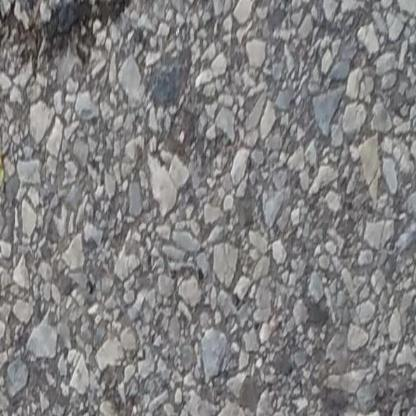Cracks: (0, 0, 163, 74)
